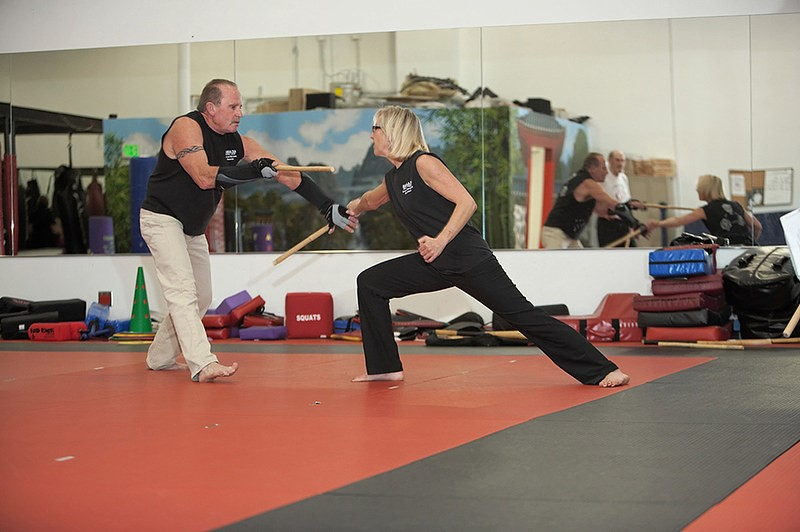baston_e: (276, 223, 327, 265), (644, 339, 741, 351), (632, 200, 694, 213), (609, 226, 642, 248), (699, 337, 798, 343), (277, 164, 331, 171)
baston_v: (326, 164, 340, 173), (781, 327, 791, 338), (269, 258, 279, 265), (638, 338, 646, 346), (740, 343, 745, 350), (695, 339, 700, 344)
